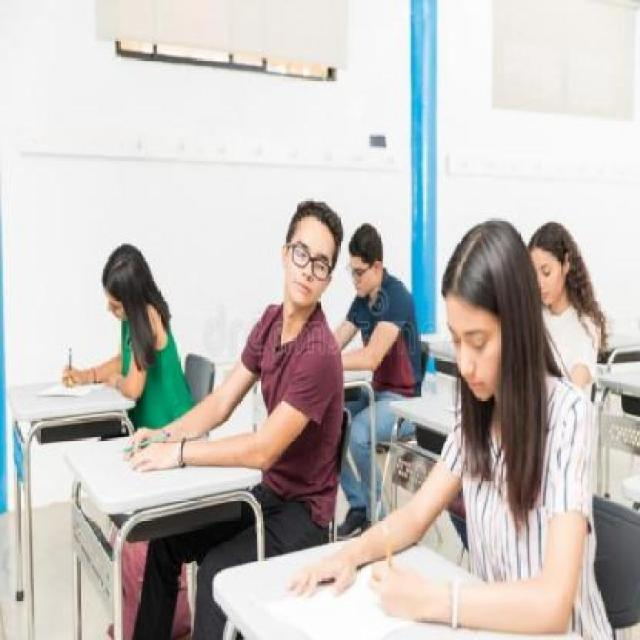cheating: (246, 189, 363, 447)
good: (406, 209, 602, 631)
